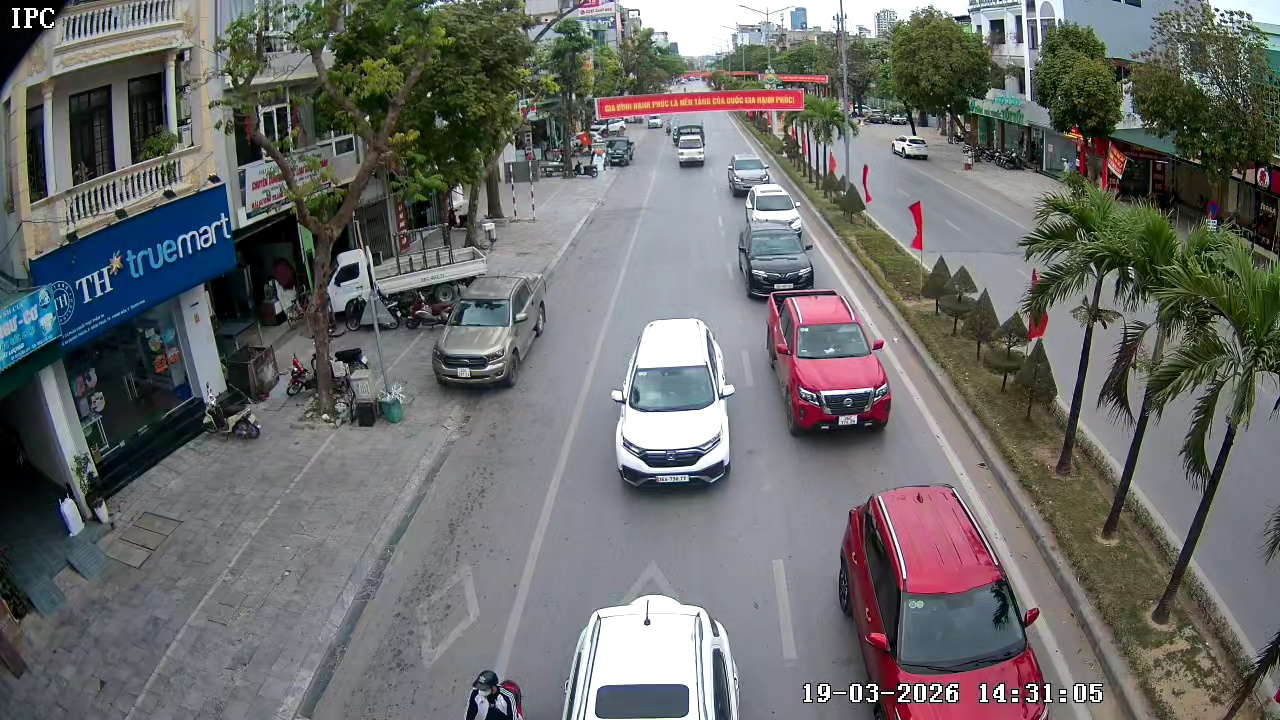car: (836, 484, 1065, 719), (557, 592, 746, 719), (611, 316, 736, 489), (767, 289, 892, 435), (430, 274, 546, 387), (735, 220, 816, 300), (743, 181, 804, 236), (726, 153, 771, 196), (677, 137, 707, 168)
